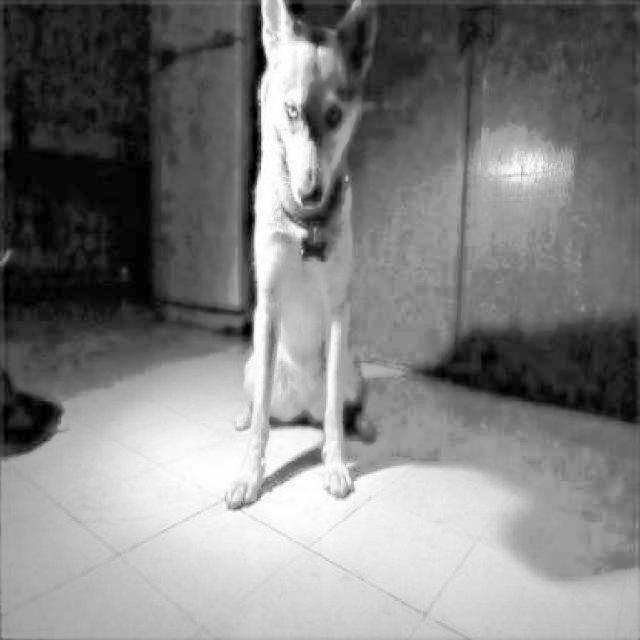Dog: (223, 0, 380, 511)
